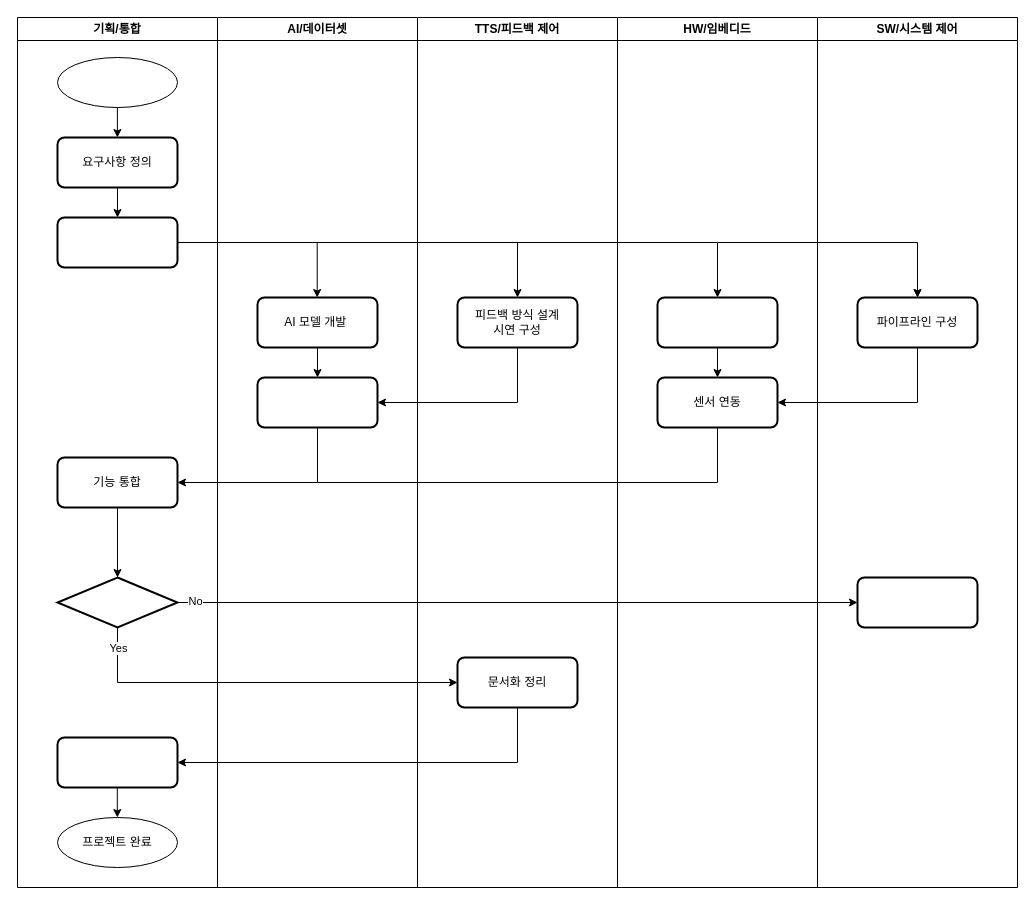
The diagram is 1035 pixels wide and 905 high, and some of its shapes have lost their labels. Each missing label, with the centre of its shape:
"기준 충족" goes at point (117, 602).
"시스템 구조 설계" goes at point (117, 242).
"시연 및 보고서 정리" goes at point (117, 762).
"위험 안내 연동" goes at point (317, 402).
"최적화 및 성능 개선" goes at point (917, 602).
"프로젝트 시작" goes at point (117, 82).
"하드웨어 구성 구체화" goes at point (717, 322).
